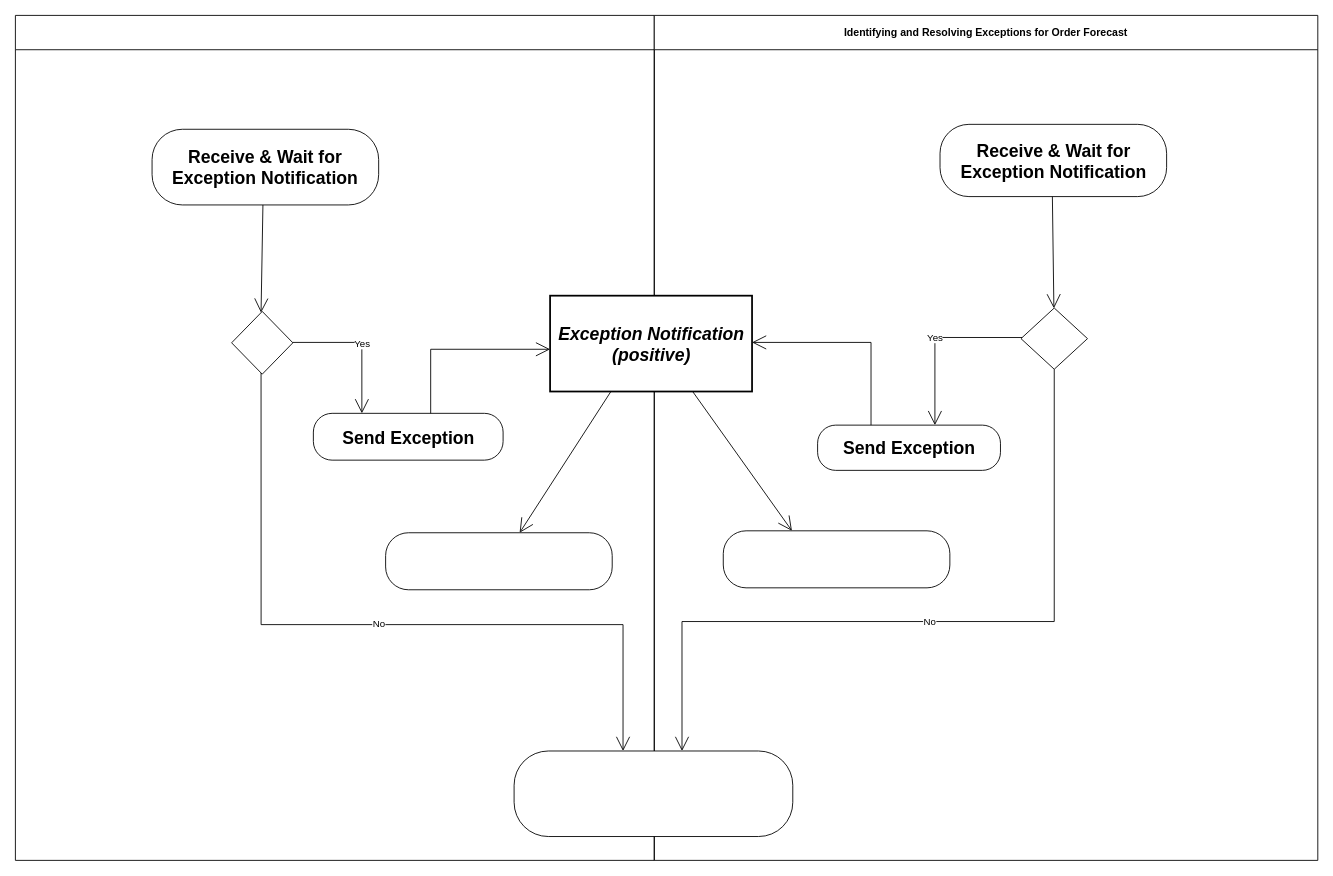
Image size: 1333x876. Some labels were removed from this diagram. The shapes that lost their labels are listed below. From the top down, each one's centre as x and y in pixels, then its label:
At (498,561): "Receive & Resolve 1 Exception".
At (836,559): "Receive & Resolve Exception".
At (653,793): "Ordering".
